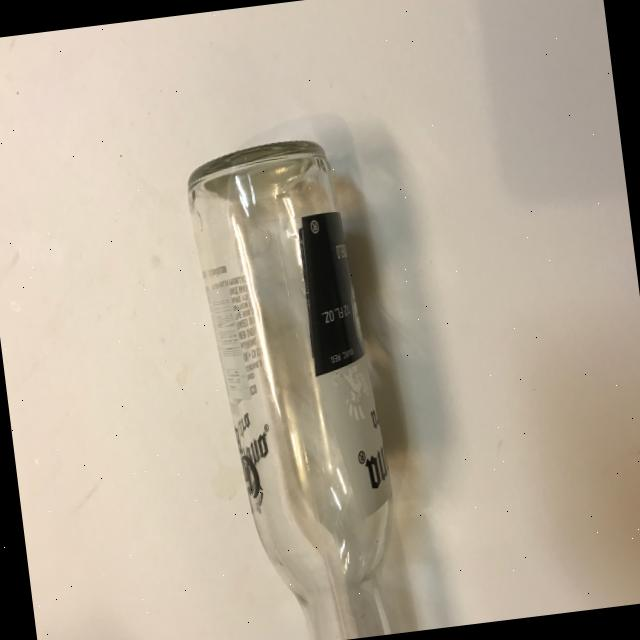glass: (181, 130, 412, 640)
